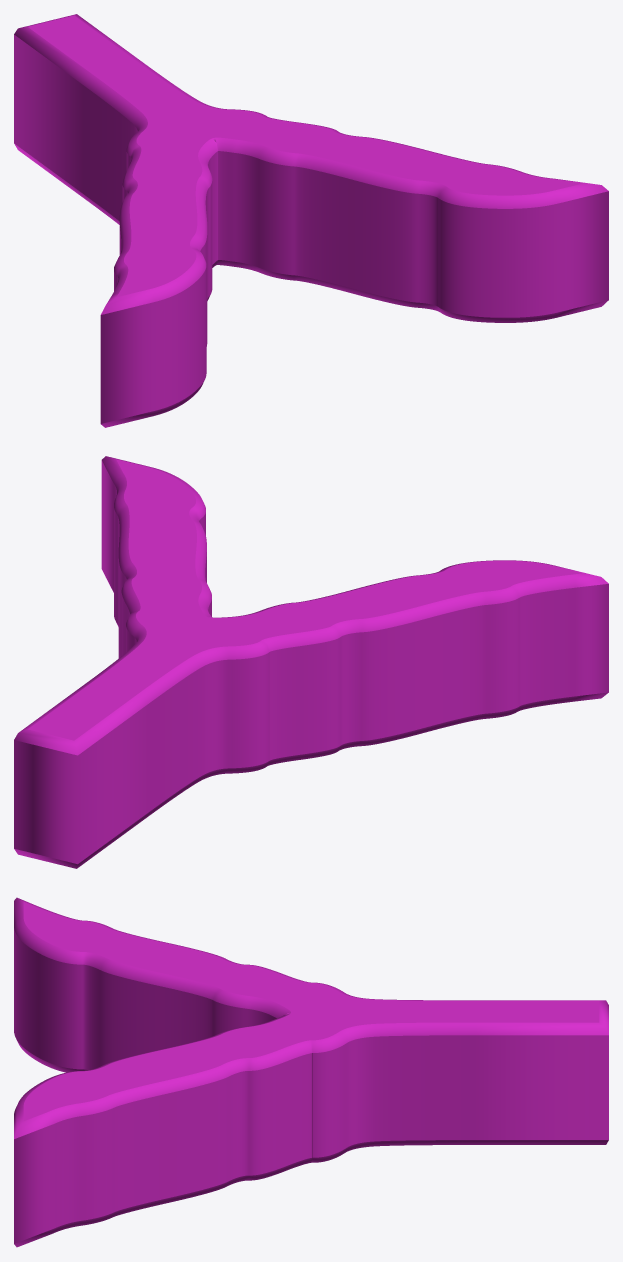
Rendered from Blocky_LetterY.fbx.
3 renders of one model, top to bottom at view 1: azimuth 30°, elevation 25°; view 2: azimuth 150°, elevation 25°; view 3: azimuth 270°, elevation 25°, orthographic. The views are drawn at different scales.
Visible parts, largest first — view 1: BlockyLetter_Y; view 2: BlockyLetter_Y; view 3: BlockyLetter_Y.
Part boxes in pixels (left/top/right/bottom): BlockyLetter_Y: left=14, top=14, right=608, bottom=427; BlockyLetter_Y: left=14, top=456, right=608, bottom=868; BlockyLetter_Y: left=14, top=897, right=608, bottom=1247.
Bounding box in the file's own units: 0.5863 × 0.14 × 0.618.
